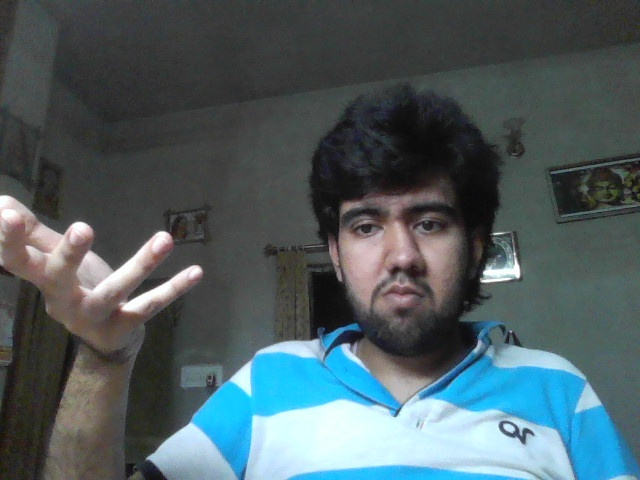What: (1, 195, 204, 356)
